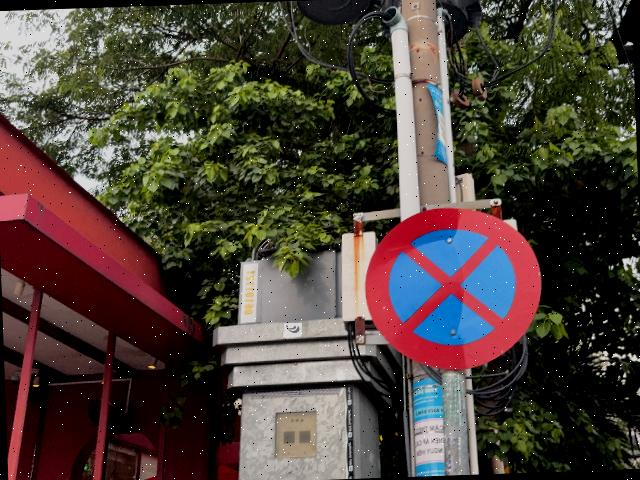cam-dung-va-do-xe: (363, 204, 544, 372)
